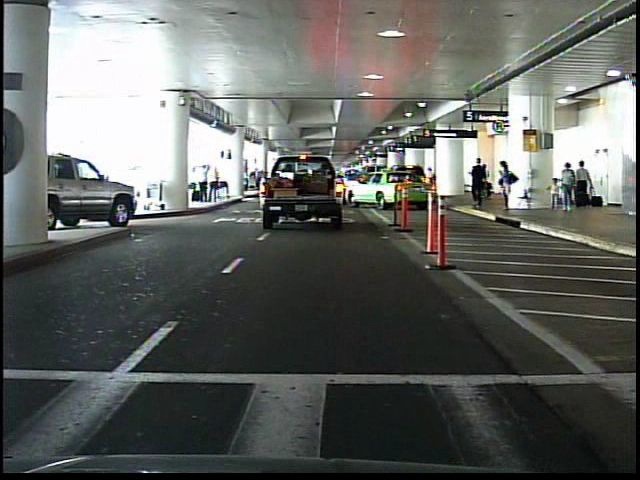person: (497, 155, 518, 214), (468, 154, 487, 207), (483, 159, 496, 206)
